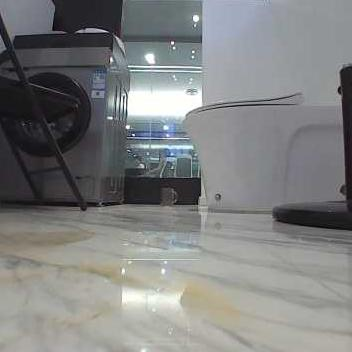chair_base: (270, 188, 351, 230)
plastic_water_cup: (158, 185, 179, 208)
toilet: (180, 90, 351, 213)
washing_machine1: (0, 33, 125, 207)
